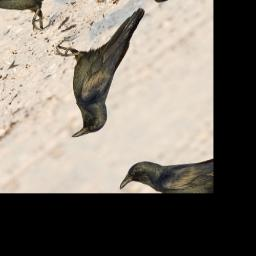Crow: (15, 0, 193, 147)
